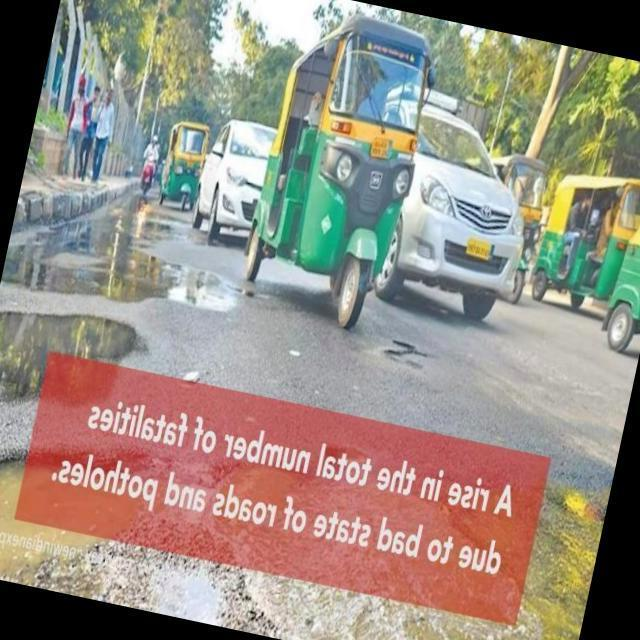Pothole: (0, 445, 150, 576), (553, 488, 602, 531), (386, 338, 423, 372)
